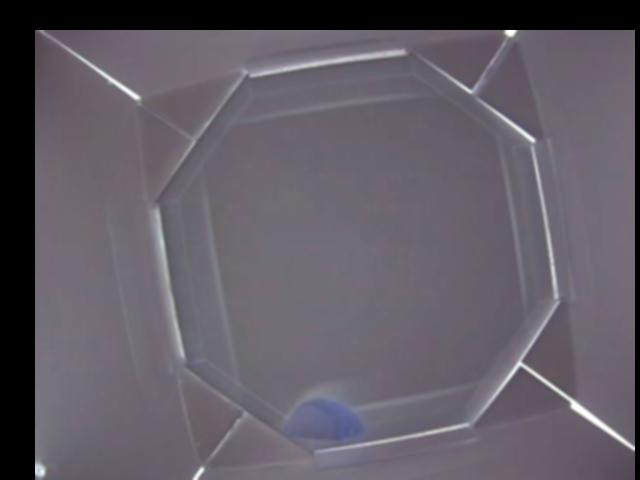Mooli: (284, 399, 368, 439)
